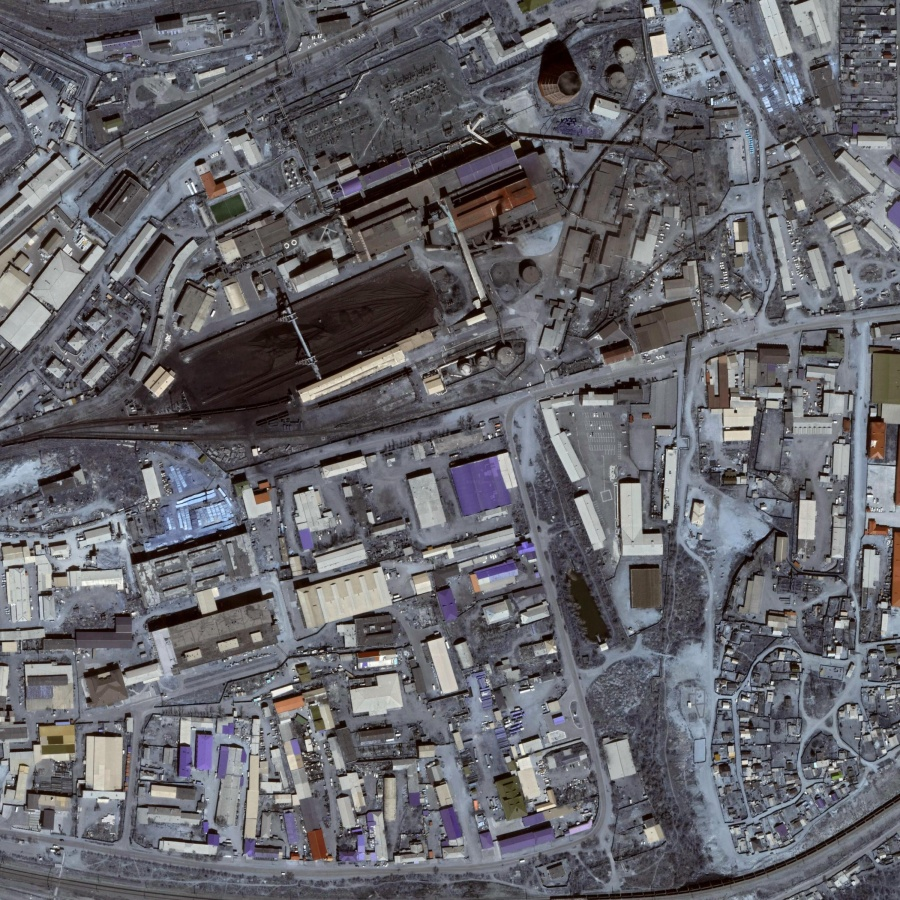PowerPlant: (164, 39, 645, 421)
